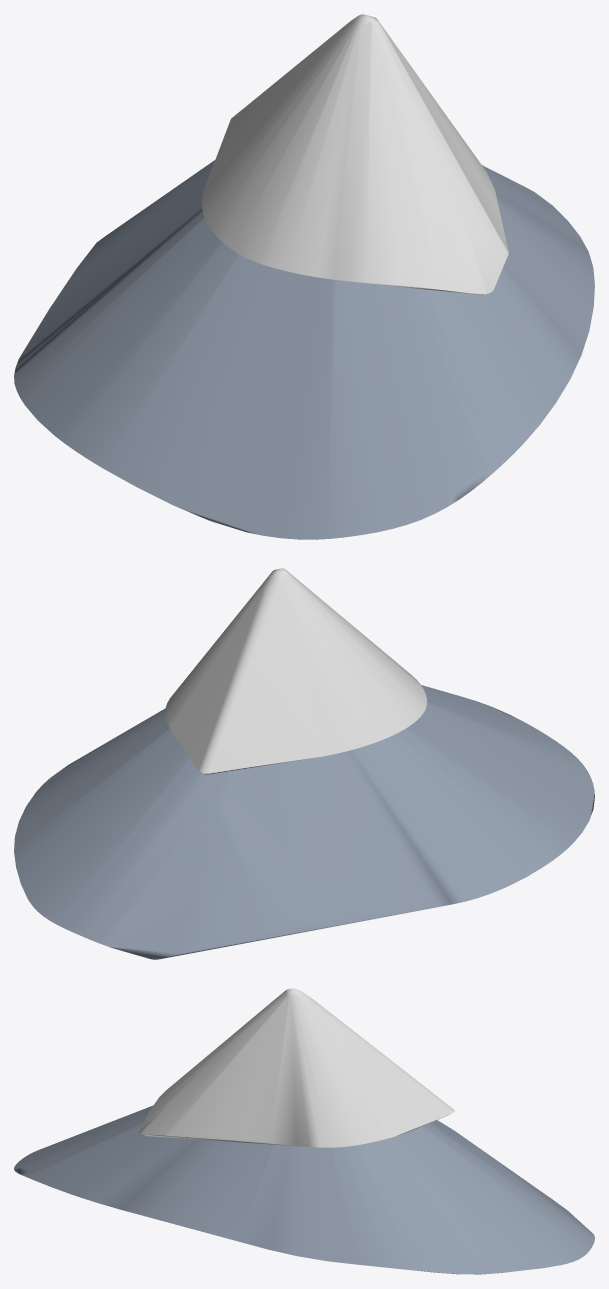
Rendered from Mountain.fbx.
The picture shows the model from 3 angles, top to bottom: view 1: azimuth 30°, elevation 25°; view 2: azimuth 150°, elevation 25°; view 3: azimuth 270°, elevation 25°; orthographic projection. The views are drawn at different scales.
Visible parts, largest first — view 1: mountain1; view 2: mountain1; view 3: mountain1.
Boxes of the visible parts, x1,y1,x2,y2 form: mountain1: (14, 14, 594, 539); mountain1: (14, 568, 594, 959); mountain1: (14, 988, 594, 1274).
Size of the model in its own units: 185 by 112 by 235.
